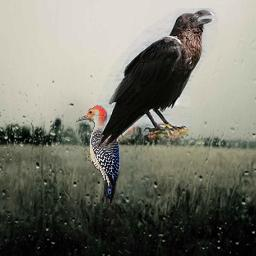Crow: (94, 8, 218, 149)
Woodpecker: (76, 105, 120, 203)
